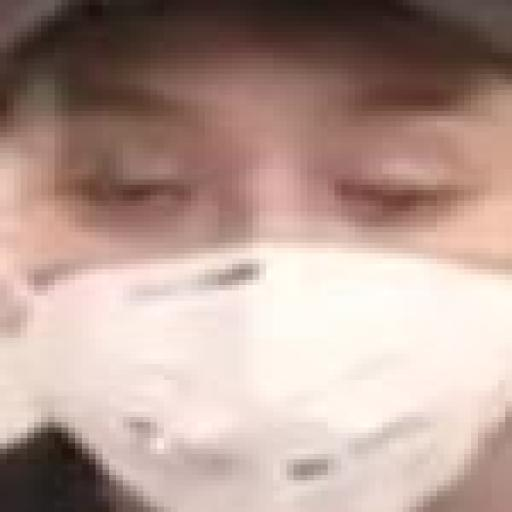mask: (3, 89, 501, 512)
